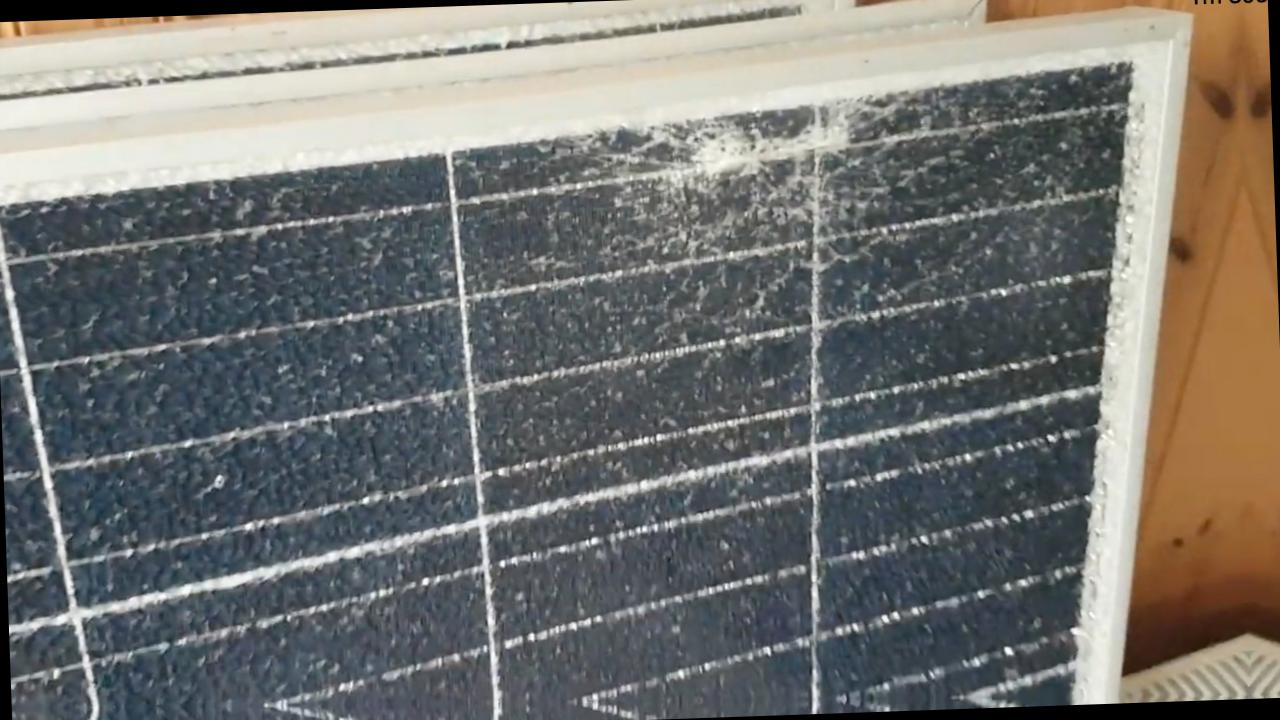Crack: (2, 189, 468, 552), (2, 369, 476, 719), (475, 378, 816, 712), (610, 104, 944, 378), (819, 432, 1081, 709)
